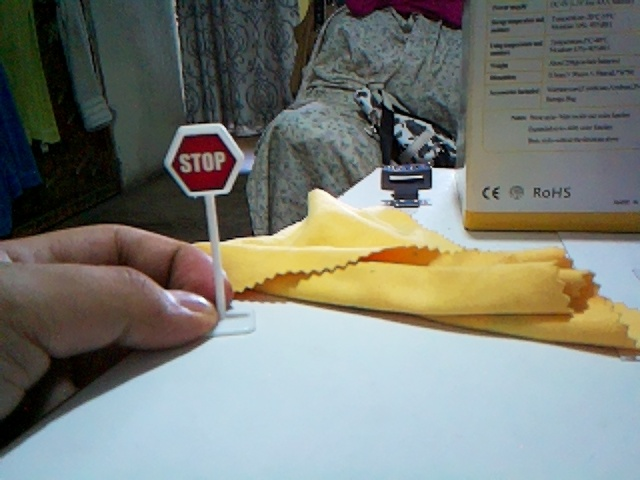stop_sign: (165, 123, 243, 196)
